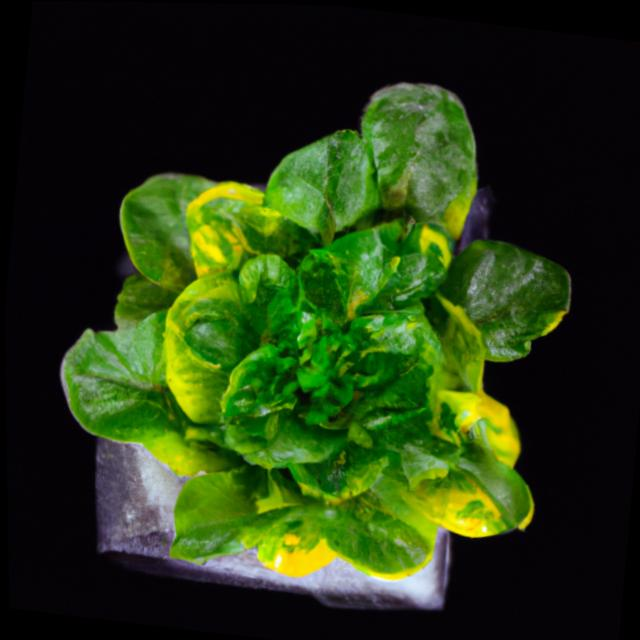-N: (21, 21, 605, 637)
